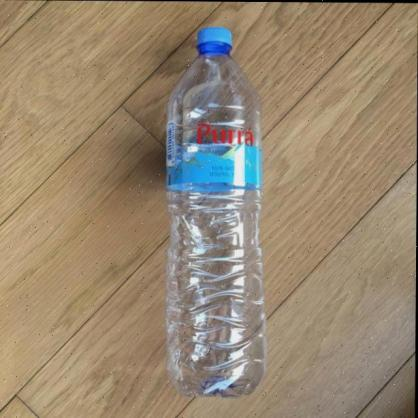bottle: (162, 26, 270, 399)
cap: (195, 26, 234, 50)
label: (165, 120, 265, 192)
